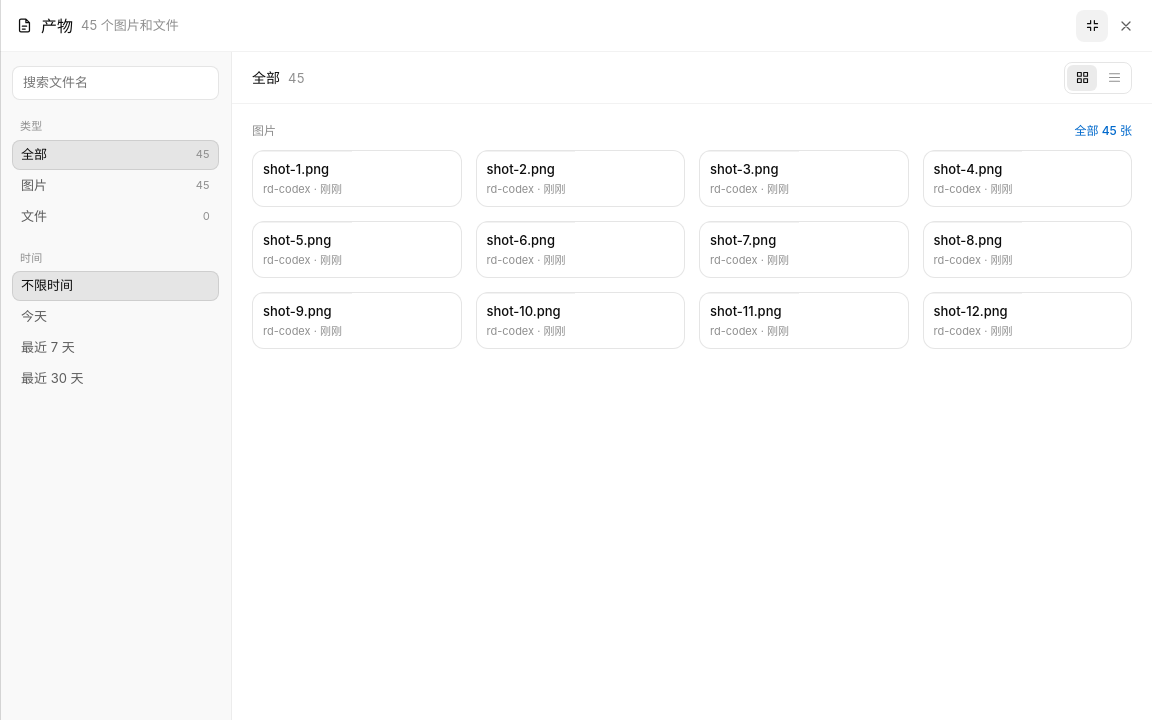
Test case: ArtifactsPanel › flips through every image in the grid with the arrow keys, loading more at the end
Later steps or results of the test are not shown.
Click the button "图片 45": (116, 186) [12, 170, 219, 200]
(page scrolled)
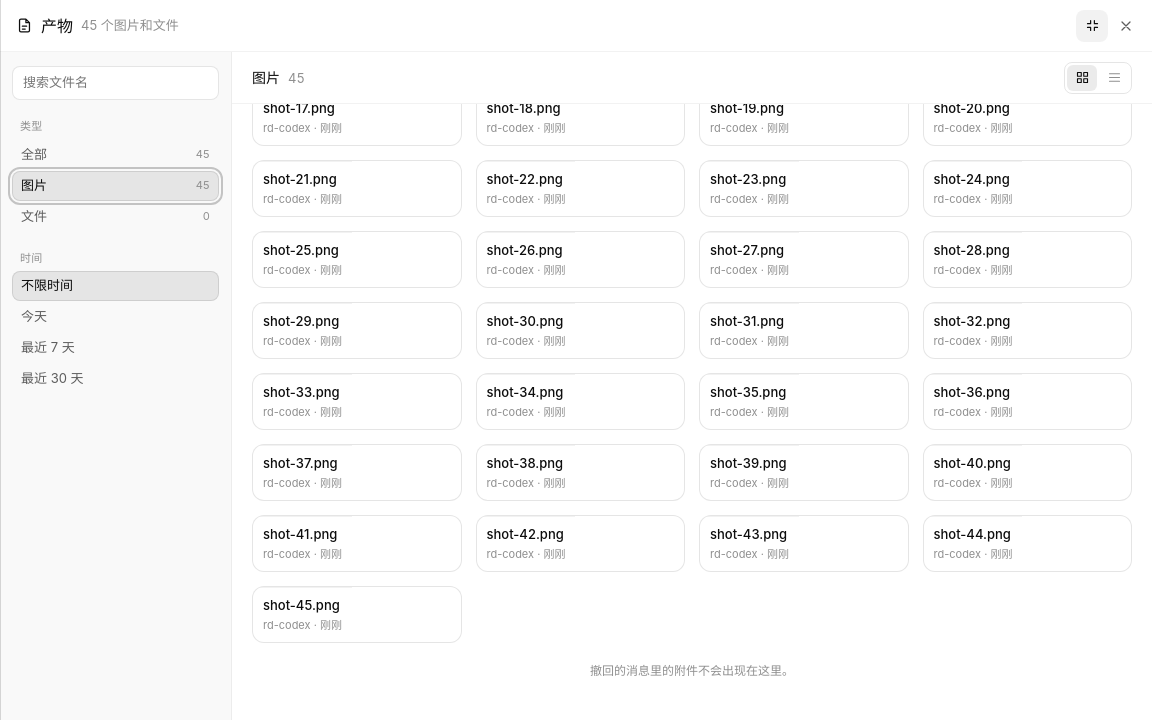
Note: 点一下选中看详情，再点一下打开看图器
Click the button with aria-label "查看图片 shot-39.png": (804, 472) [699, 444, 908, 501]
(page scrolled)
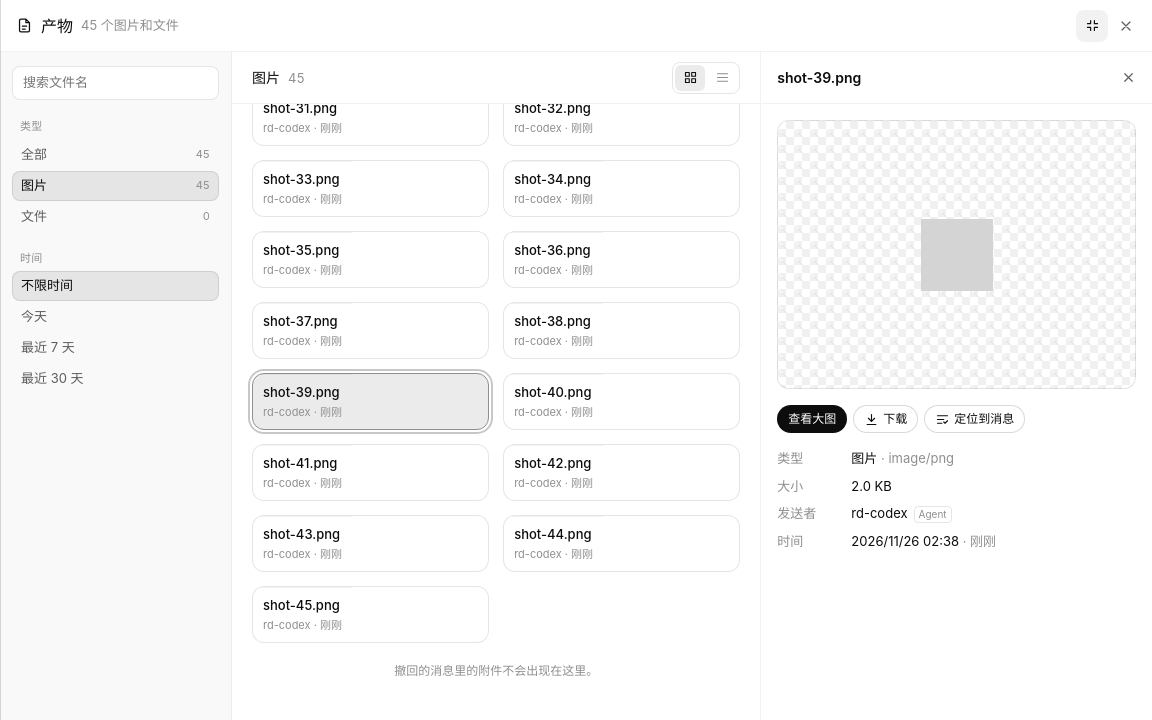
Check: the element named "shot-39.png 的详情" is shown, box [760, 52, 1151, 719]
Click the button with aria-label "查看图片 shot-39.png": (371, 402) [252, 373, 489, 430]
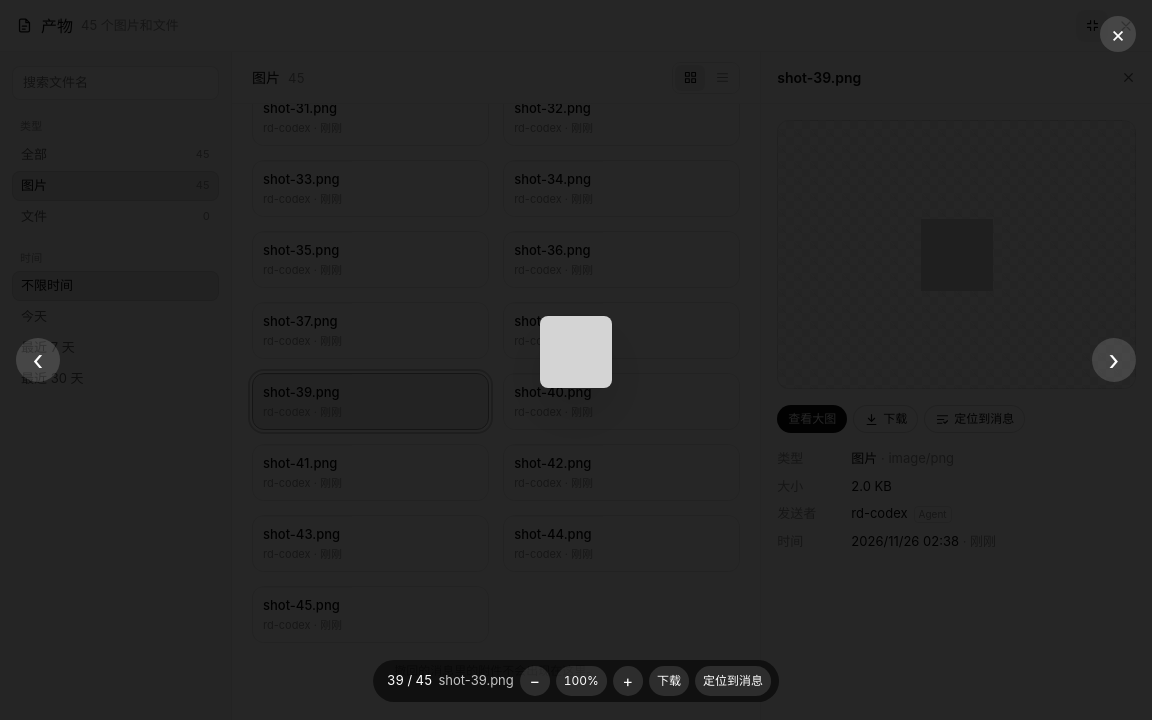
Check: the text "39 / 45" is shown, box [387, 671, 432, 691]
Note: 翻到网格末尾附近时自动取下一页，计数跟着变
Press Arrowright Arrowright
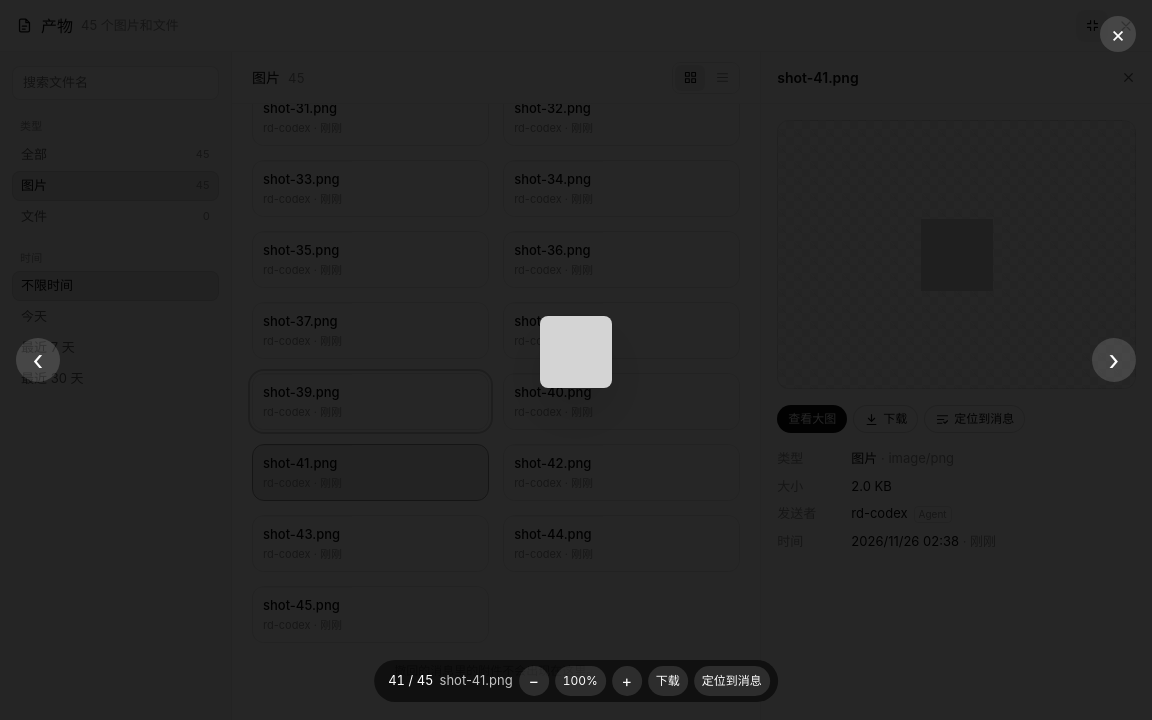
Check: the dialog "shot-41.png" is shown
Check: the element named "shot-41.png 的详情" is shown, box [760, 52, 1151, 719]
